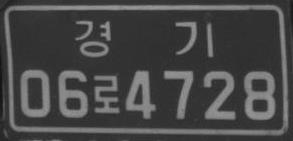0: (19, 67, 51, 118)
2: (202, 69, 236, 121)
4: (124, 69, 157, 119)
6: (57, 68, 89, 119)
7: (162, 69, 194, 120)
8: (243, 69, 276, 121)
경기_D: (74, 18, 215, 58)
로: (92, 72, 120, 115)
